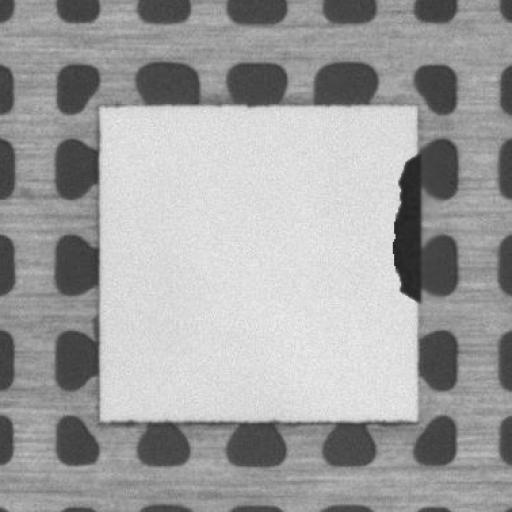DIE_BROKEN: (388, 148, 422, 306)
